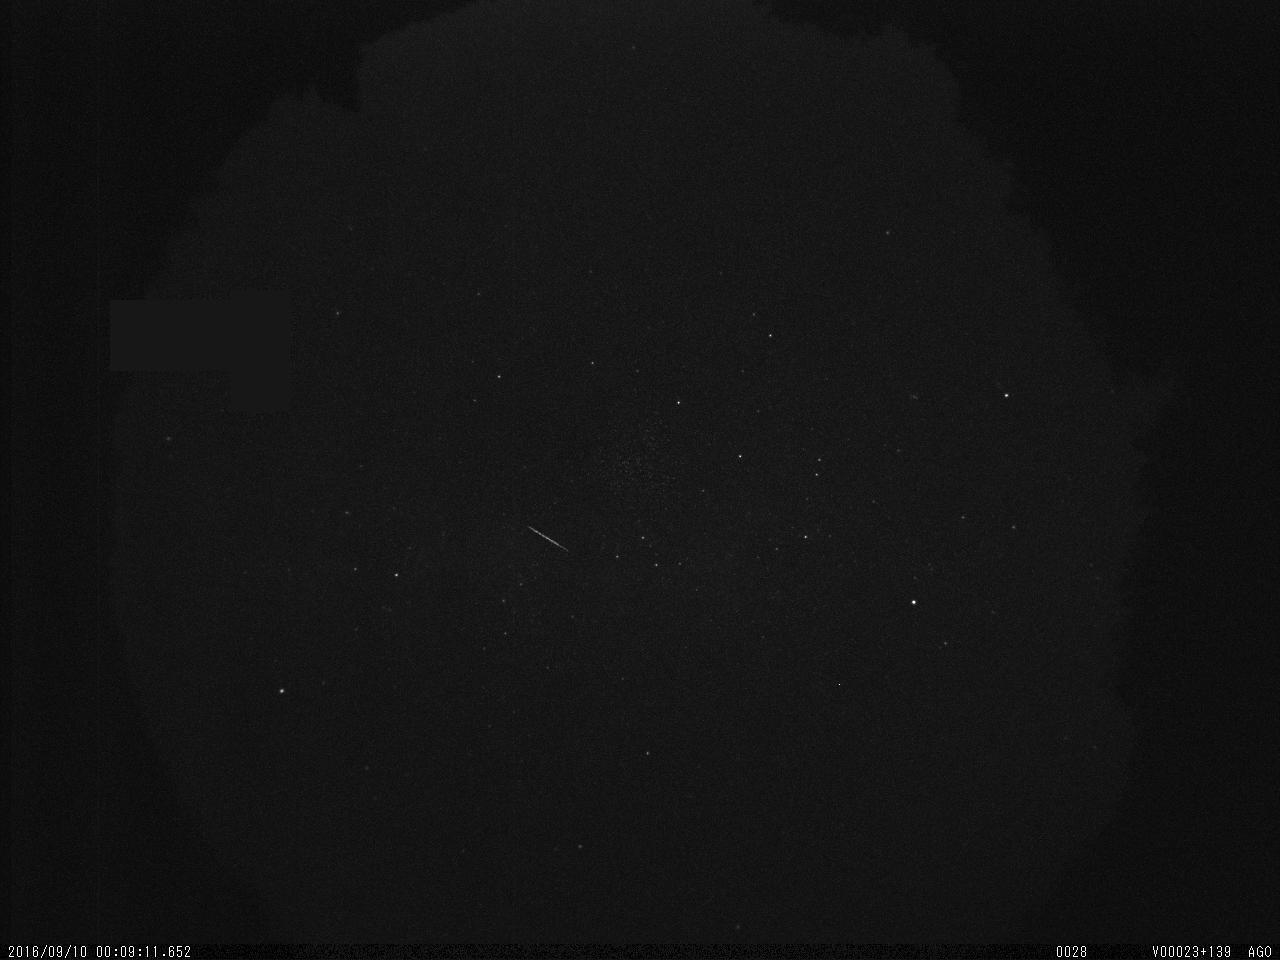meteor: (506, 512, 590, 569)
